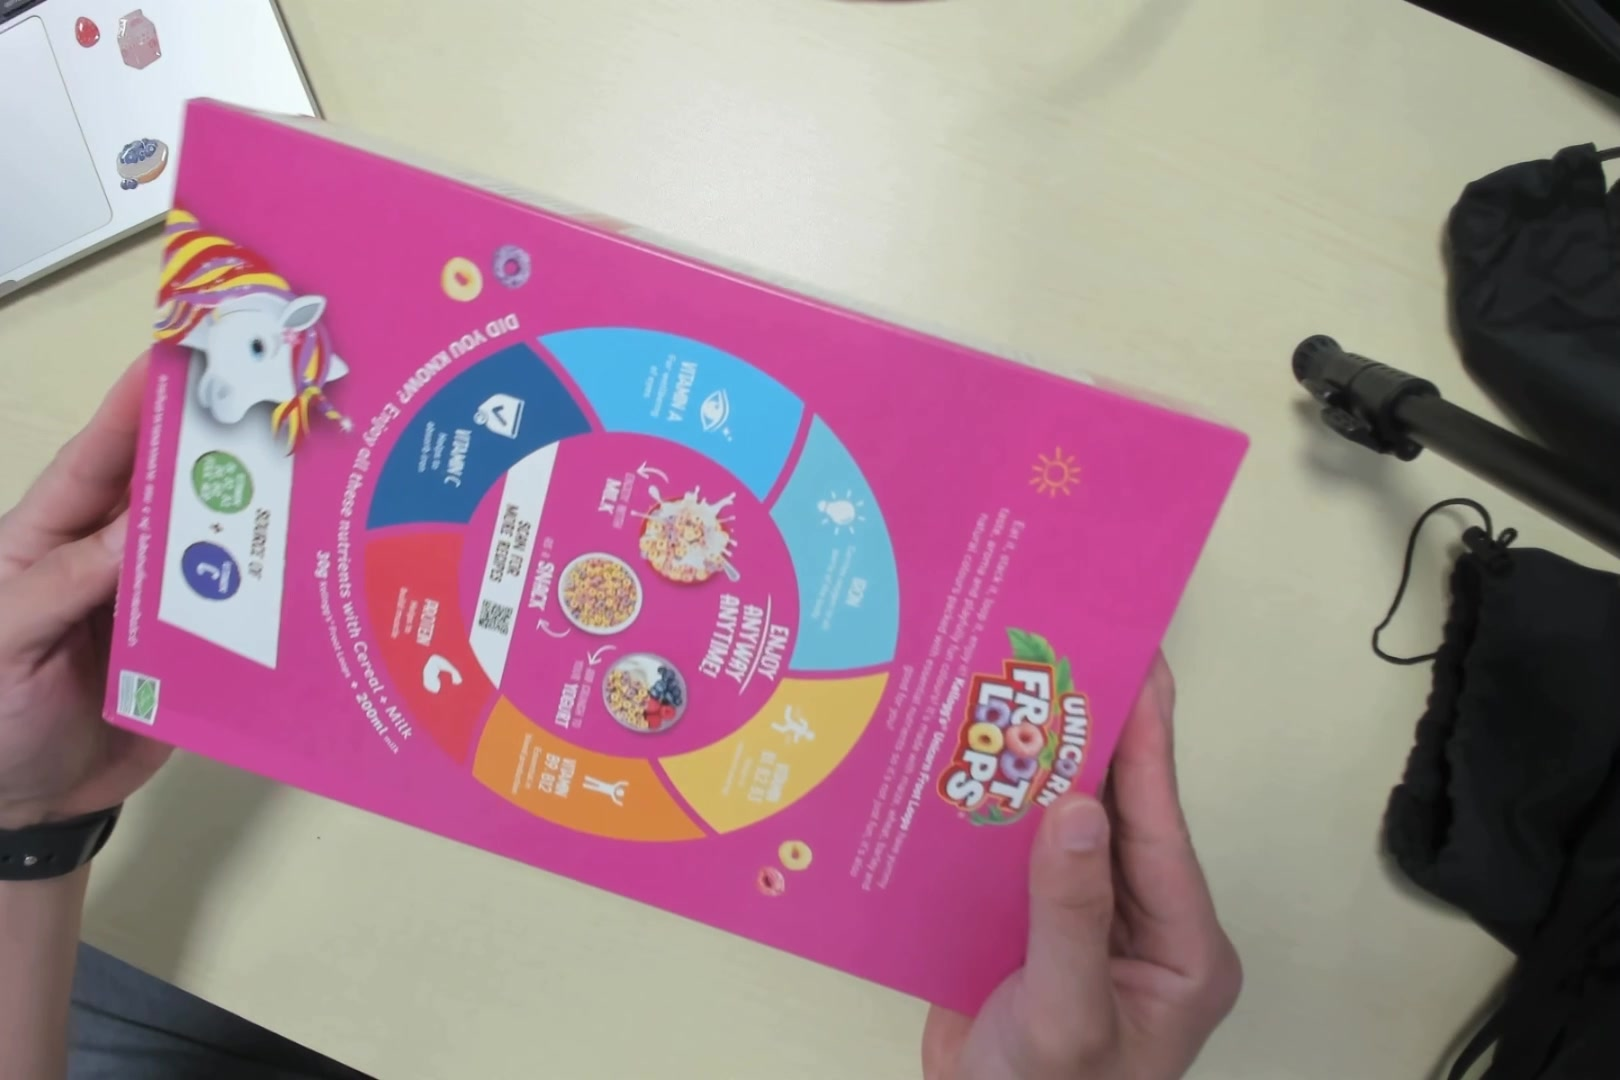BreakfastCereals_200-299g_Halal_NonHealthy: (102, 115, 1248, 979)
